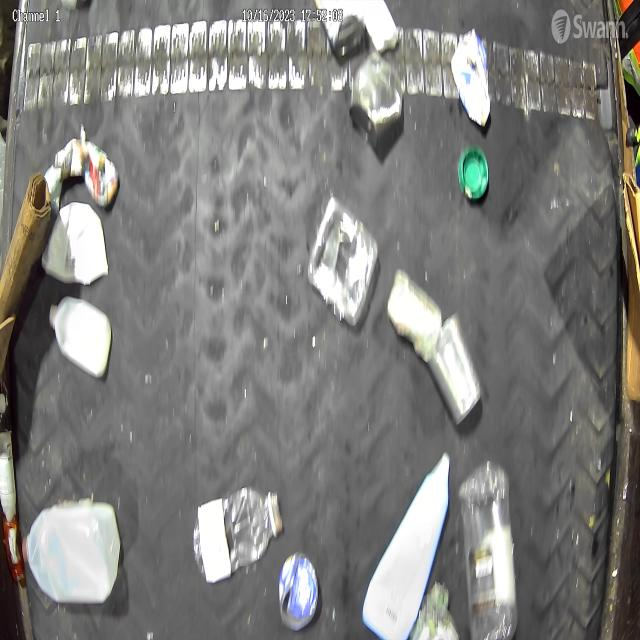can: (418, 311, 482, 425), (350, 51, 405, 148), (387, 269, 442, 365), (278, 551, 320, 632), (314, 0, 365, 61)
milk_jug: (23, 501, 122, 606), (48, 294, 112, 380)
plastic_bottle: (456, 458, 518, 640), (192, 486, 284, 585)
